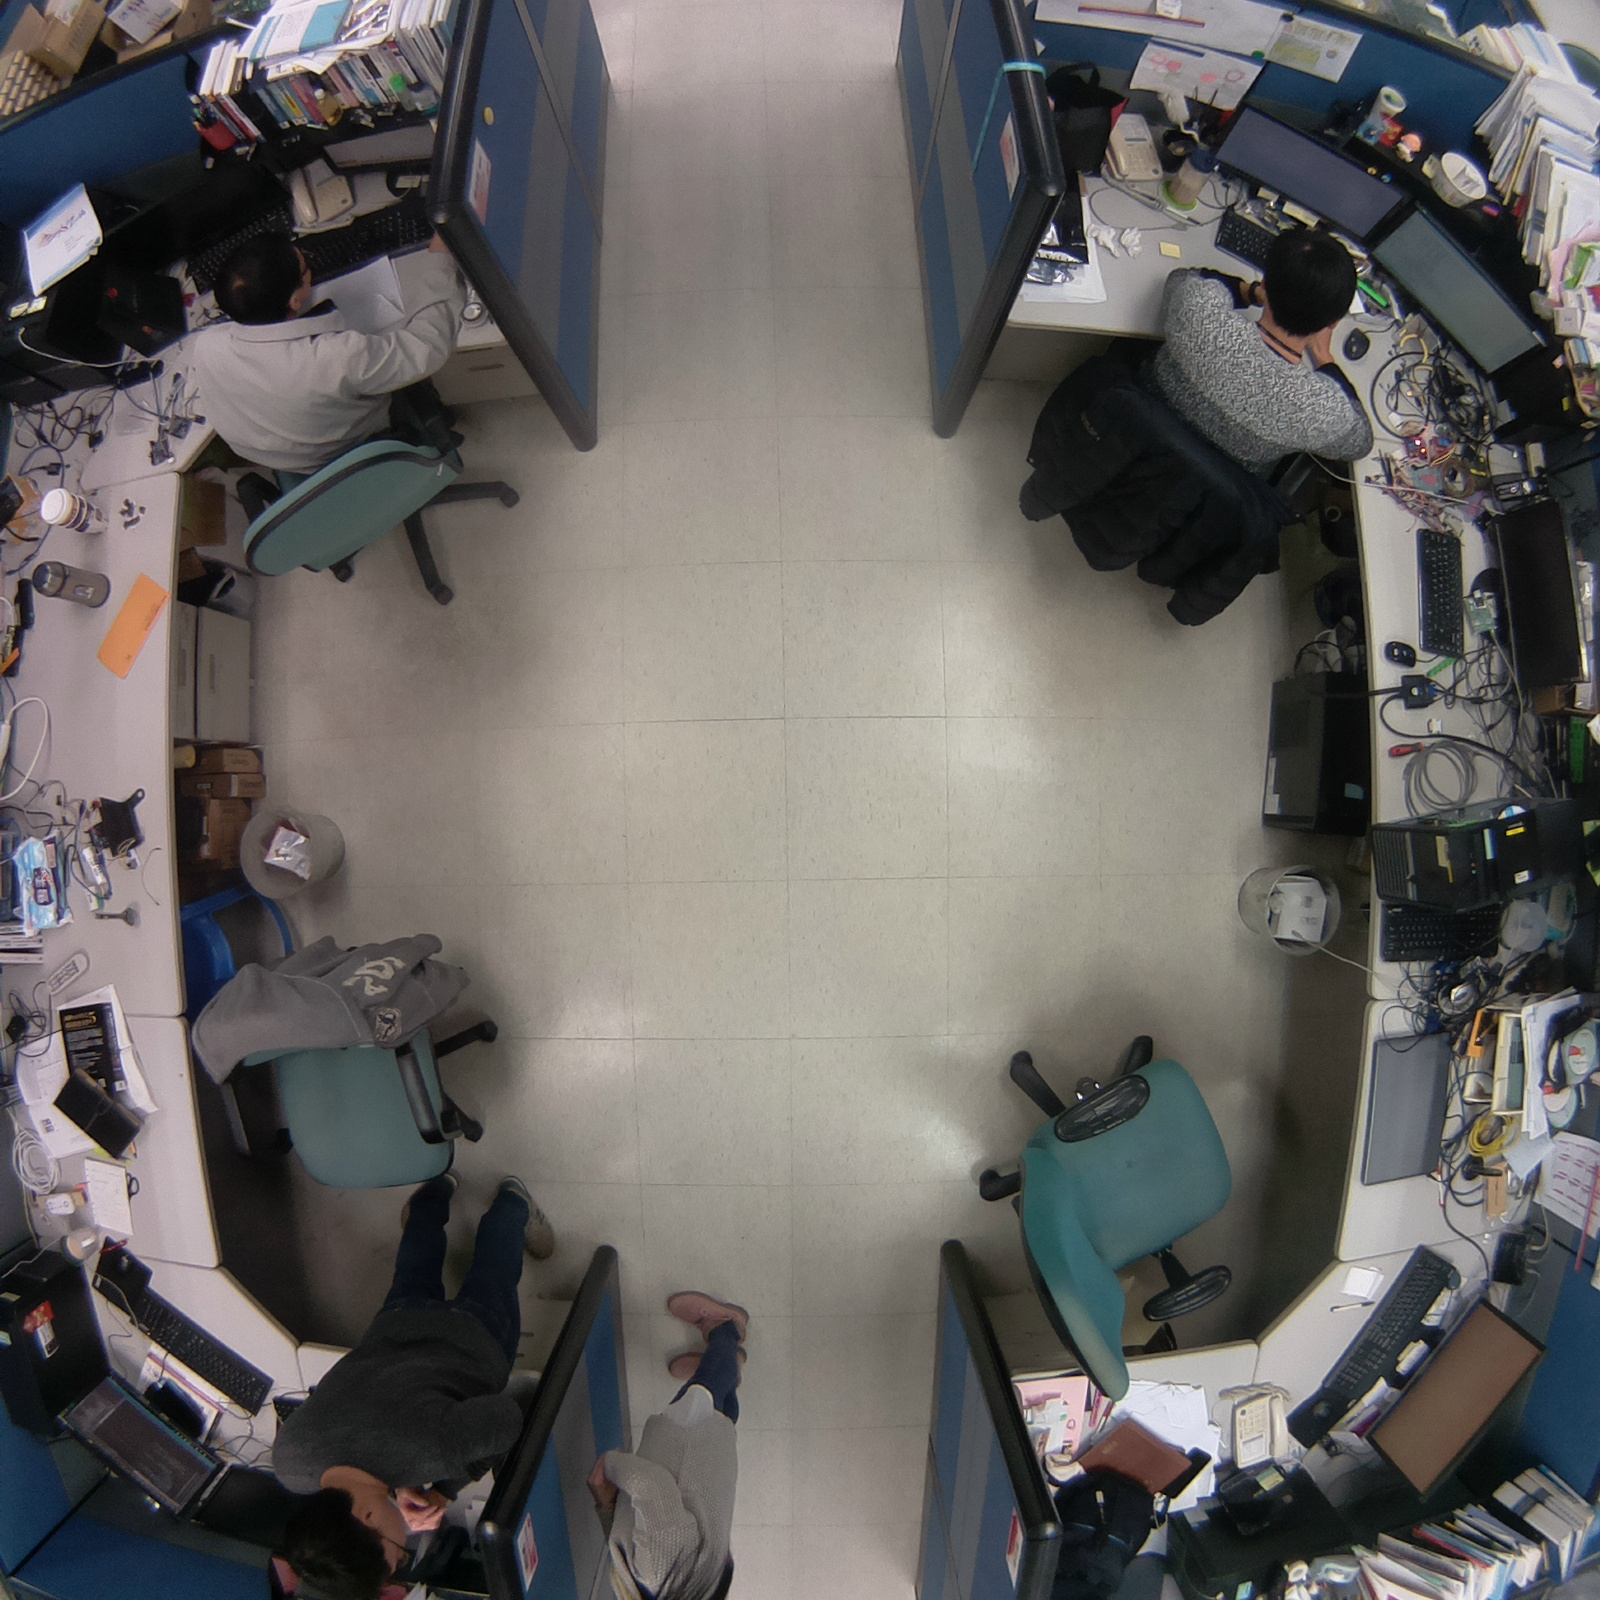chair: (955, 1019, 1263, 1414), (178, 922, 540, 1193)
head: (276, 1474, 408, 1600), (202, 208, 323, 323), (1259, 223, 1363, 338)
sitting: (1012, 220, 1382, 637), (176, 218, 537, 627)
standing: (256, 1164, 568, 1600), (569, 1267, 768, 1600)
